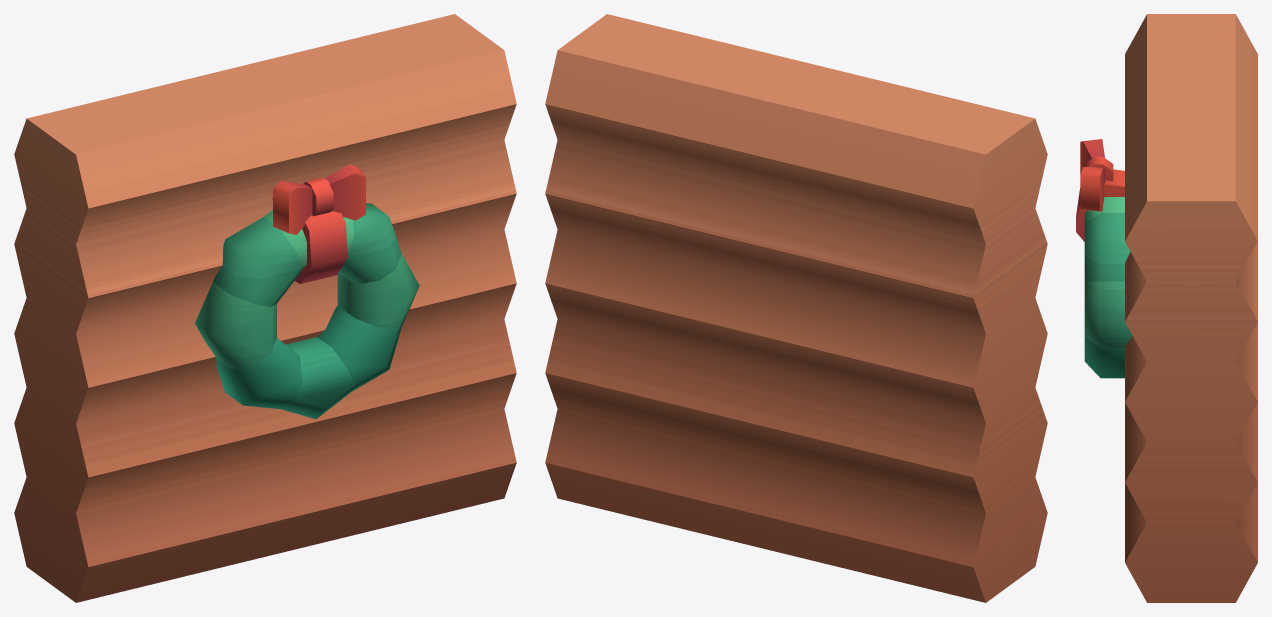
File: cabin-wall-wreath.glb
The picture shows the model from 3 angles, left to right: view 1: azimuth 30°, elevation 25°; view 2: azimuth 150°, elevation 25°; view 3: azimuth 270°, elevation 25°; orthographic projection. The views are drawn at different scales.
Visible parts, largest first — view 1: cabin-wall-wreath; view 2: cabin-wall-wreath; view 3: cabin-wall-wreath.
Boxes of the visible parts, x1,y1,x2,y2 form: cabin-wall-wreath: (14,14,516,602); cabin-wall-wreath: (545,14,1047,602); cabin-wall-wreath: (1076,14,1257,602).
Size of the model in its own units: 1 by 1 by 0.4104.
1 material, 1 textured.
